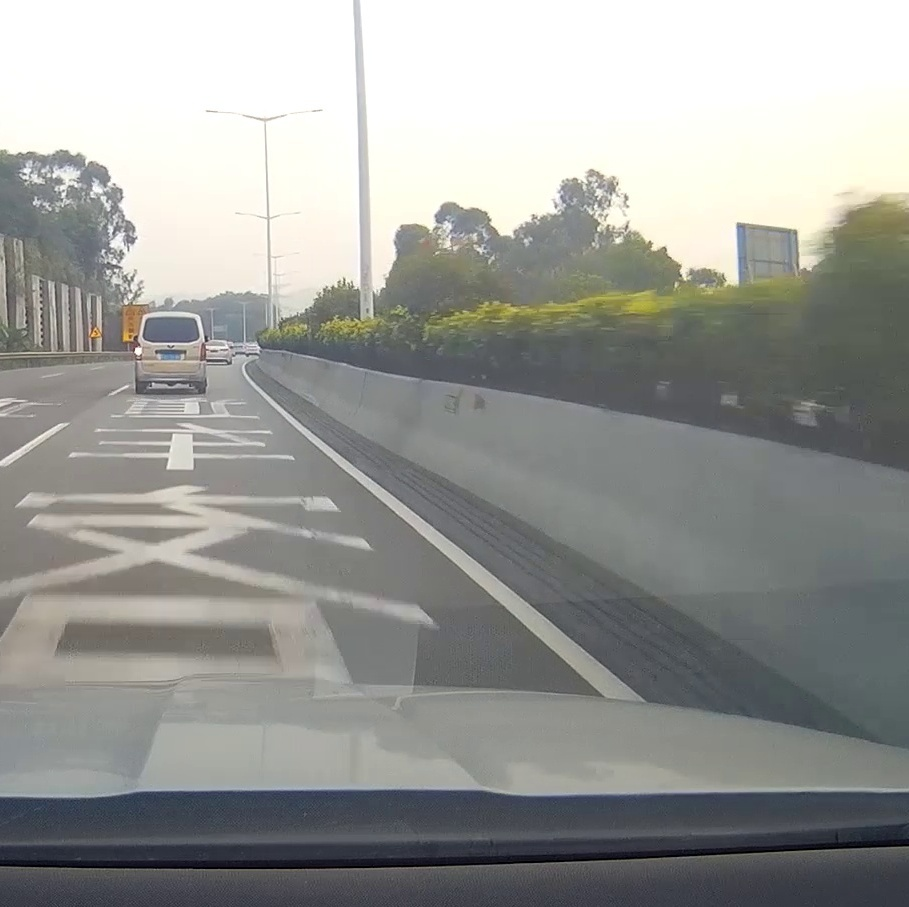L_light: (135, 341, 142, 360)
R_light: (200, 342, 206, 361)
T_light: (165, 315, 175, 318)
day-left: (134, 311, 207, 394)
